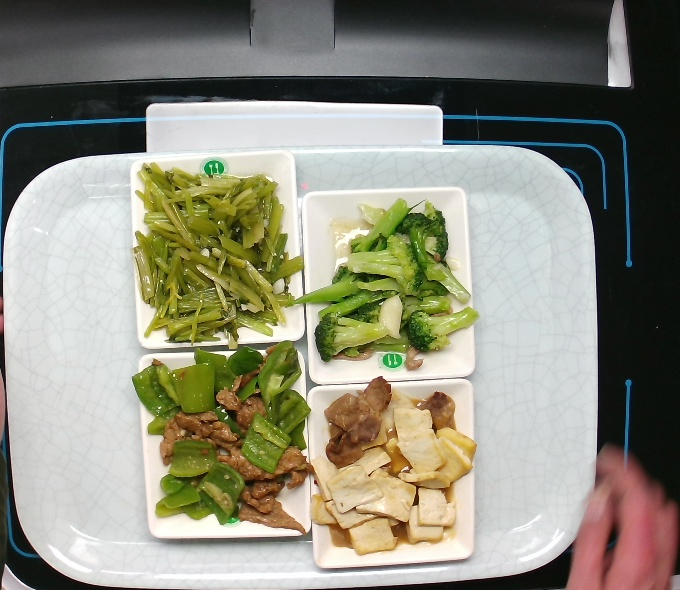wcq-DouFuRouPian: (305, 376, 492, 554)
wcq-QinCai: (134, 160, 305, 342)
wcq-QingJiaoChaoRou: (142, 349, 314, 542)
wcq-XiLanHua: (307, 203, 485, 368)
